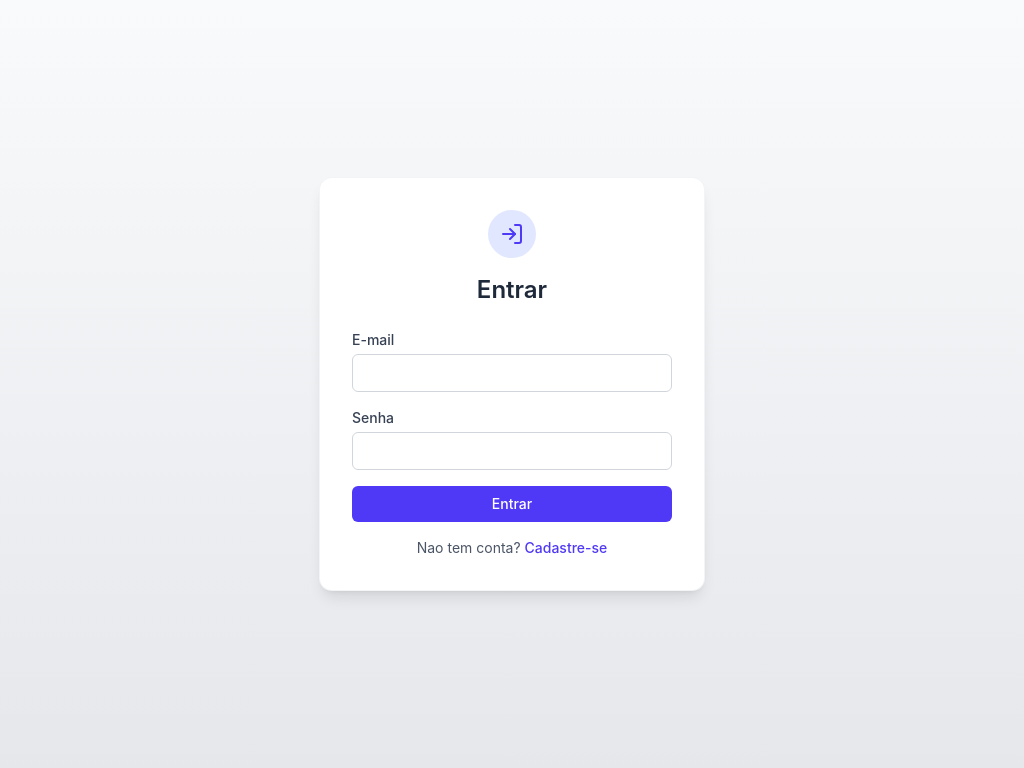
Scenario: Login › mostra mensagem de erro quando o login falha
Type "ana@exemplo.com" into the field labelled "E-mail" at (512, 373), box [352,354,672,392]
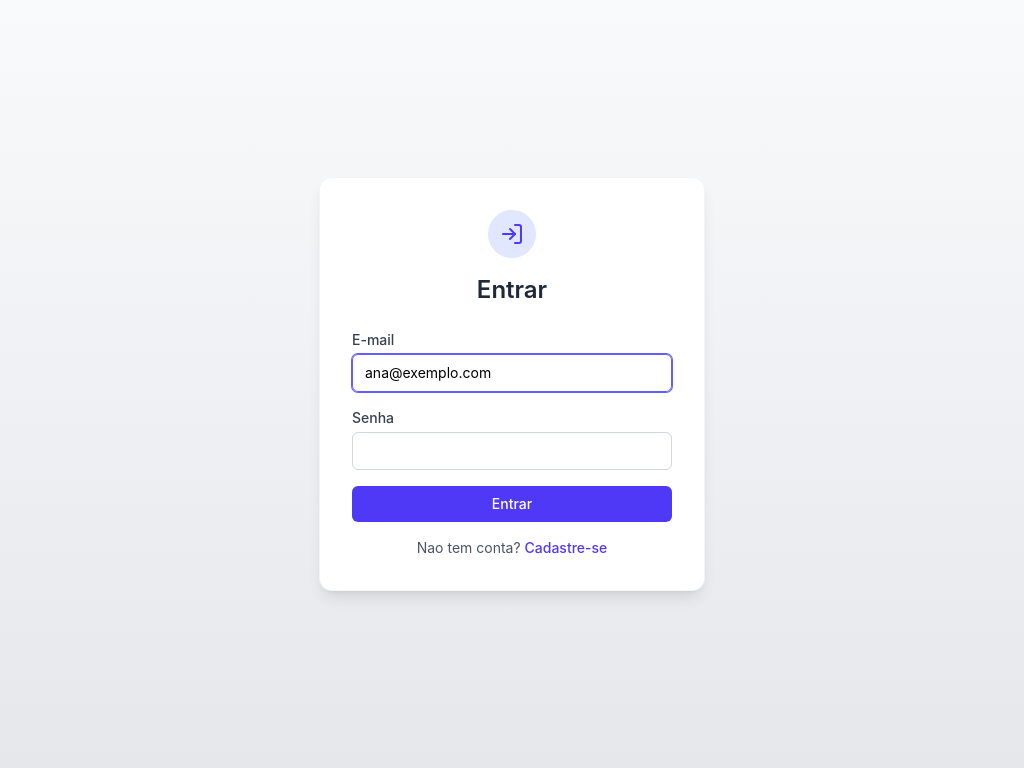
Type "errada" into the password field labelled "Senha" at (512, 451), box [352,432,672,470]
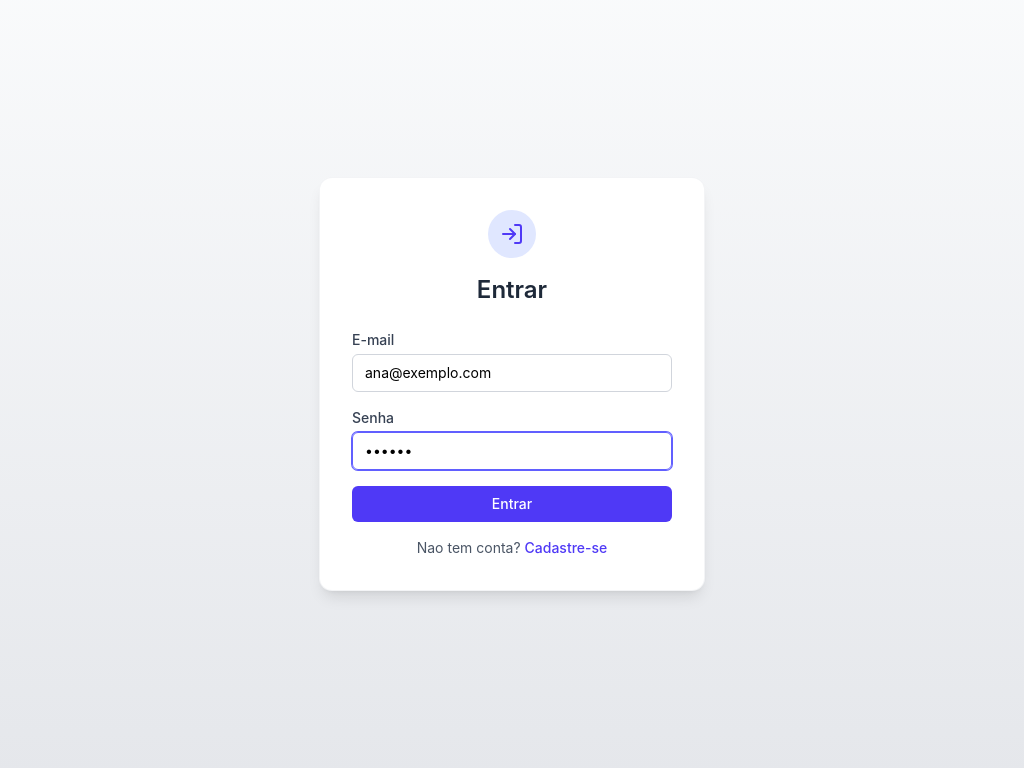
Click the button "Entrar" at (512, 504), box [352,486,672,522]
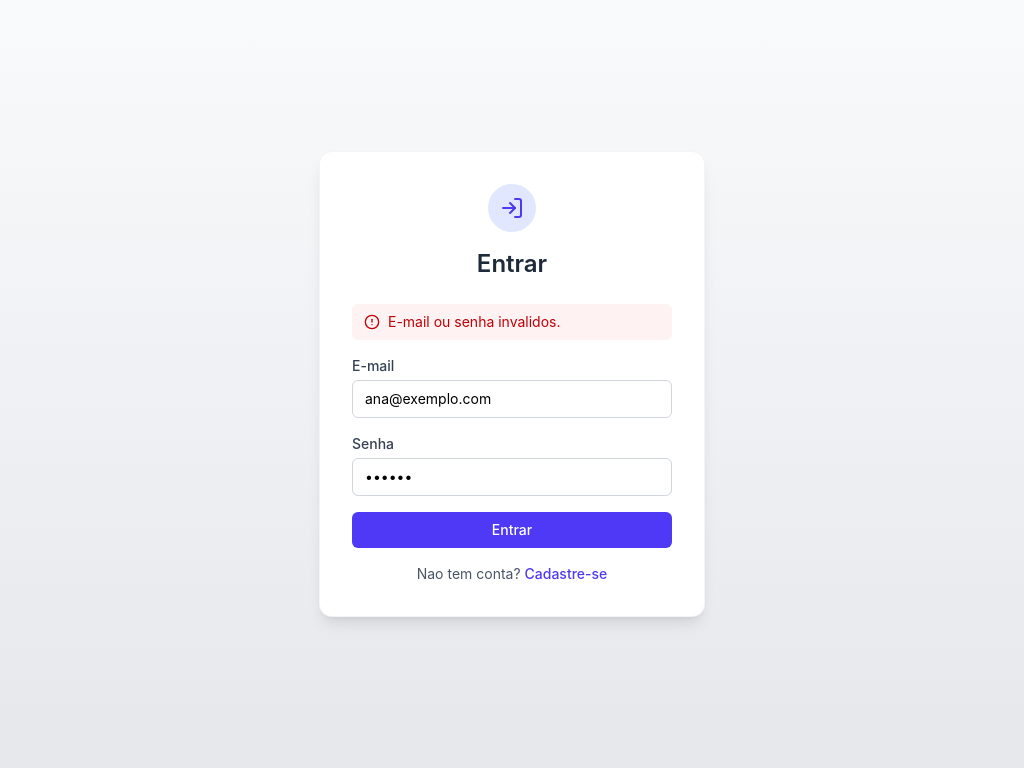
Now the message "E-mail ou senha invalidos." is shown, box [352,304,672,340]
